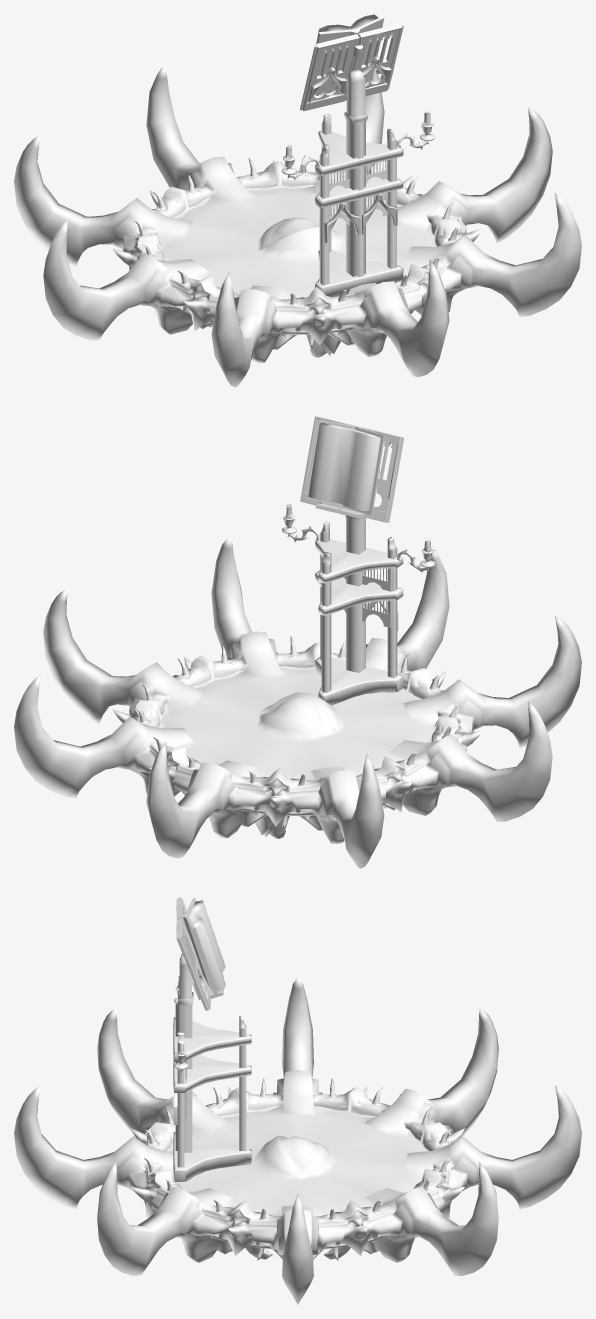
Rendered from idle.fbx.
The picture shows the model from 3 angles, top to bottom: view 1: azimuth 30°, elevation 25°; view 2: azimuth 150°, elevation 25°; view 3: azimuth 270°, elevation 25°; orthographic projection. The views are drawn at different scales.
Visible parts, largest first — view 1: disc; view 2: disc; view 3: disc.
Part boxes in pixels (bbox=[...]): disc: bbox=[14, 14, 581, 387]; disc: bbox=[14, 416, 581, 868]; disc: bbox=[14, 897, 581, 1304].
Size of the model in its own units: 4.75 by 3.2 by 4.75.
